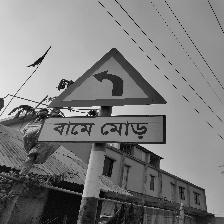Left-Turn: (39, 48, 169, 146)
